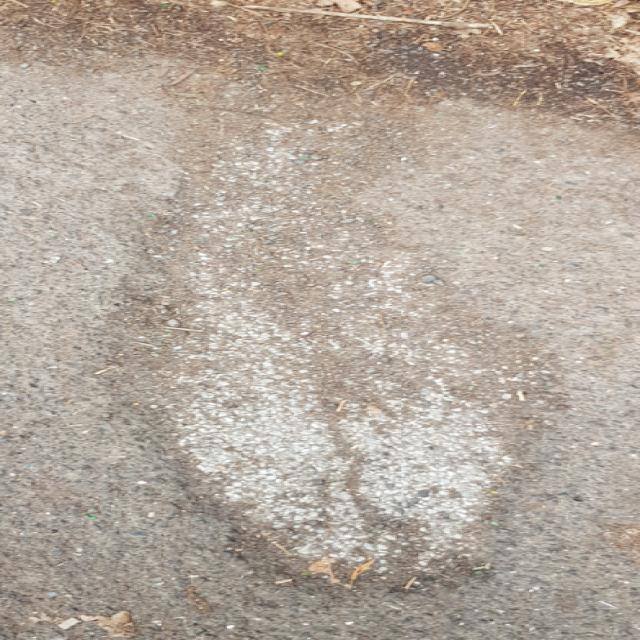pothole: (98, 104, 573, 604)
